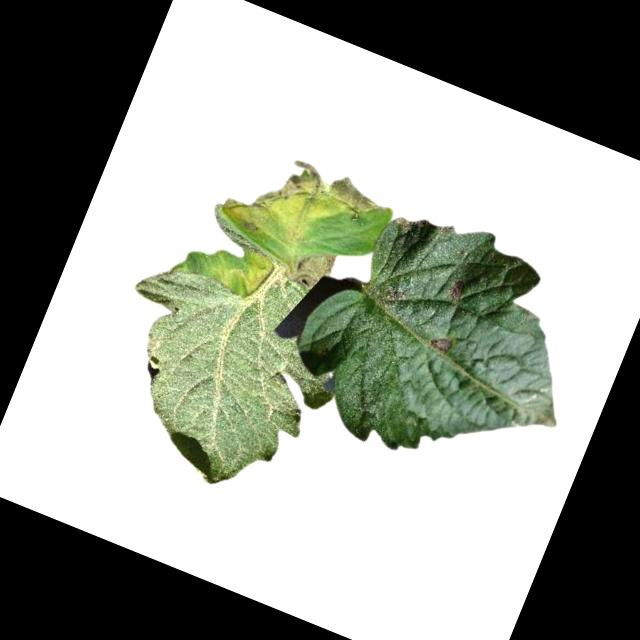Late_blight: (211, 240, 274, 298), (322, 170, 389, 223), (275, 151, 334, 209), (285, 240, 337, 291), (247, 185, 278, 214), (423, 331, 454, 358), (379, 282, 405, 307), (444, 278, 467, 305), (237, 218, 261, 235)
healthy: (76, 223, 370, 514)
